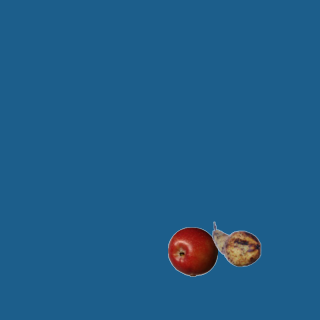Apple Braeburn: (167, 226, 217, 276)
Pear Abate: (211, 219, 261, 269)
